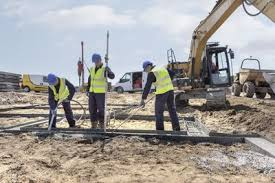helmet: (141, 59, 152, 72), (91, 53, 103, 62), (47, 73, 56, 83)
vest: (91, 67, 108, 93), (154, 68, 171, 94), (50, 84, 70, 103)
